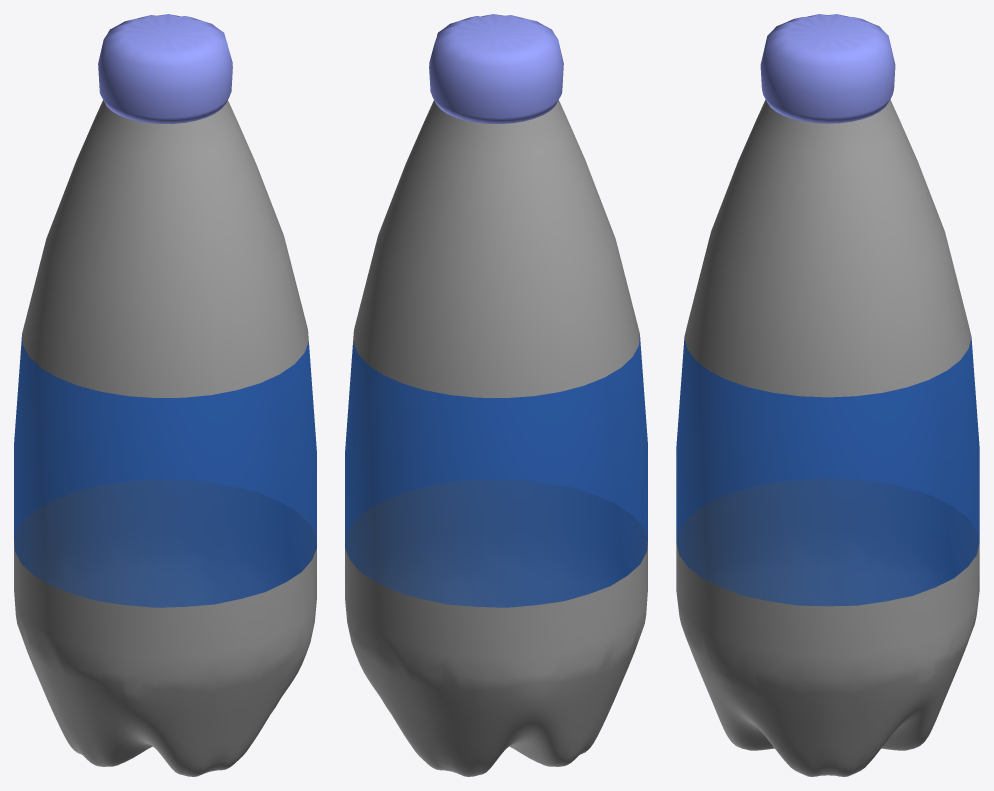
Rendered from kaihuku.fbx.
3 views of the same model, side by side, from view 1: azimuth 30°, elevation 25°; view 2: azimuth 150°, elevation 25°; view 3: azimuth 270°, elevation 25° (orthographic).
Parts seen in each view (by area): view 1: polySurface4; view 2: polySurface4; view 3: polySurface4.
Part boxes in pixels (x1,y1,x2,y2): polySurface4: [14, 14, 316, 776]; polySurface4: [345, 14, 647, 776]; polySurface4: [676, 14, 979, 776].
Size of the model in its own units: 1.96 by 5.06 by 1.96.
